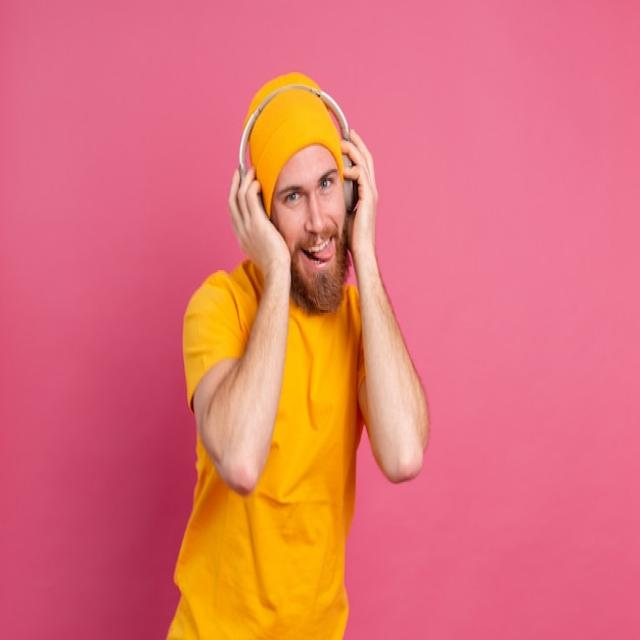Headphone: (238, 80, 358, 214)
